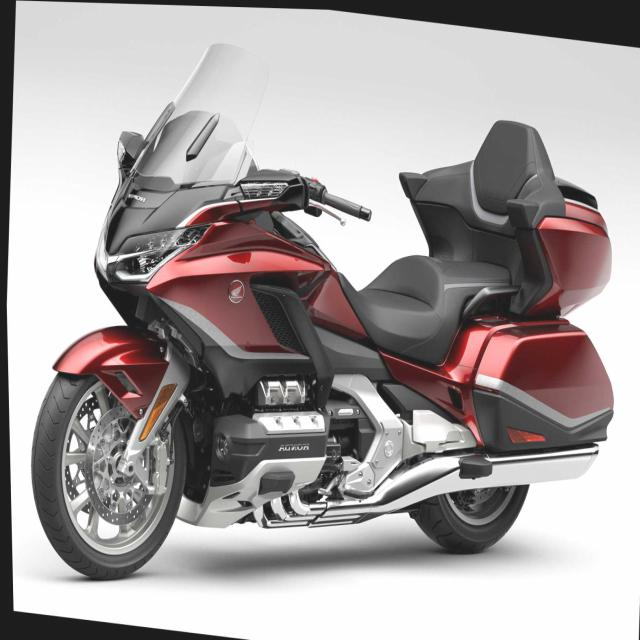Gold Wing: (18, 21, 633, 637)
